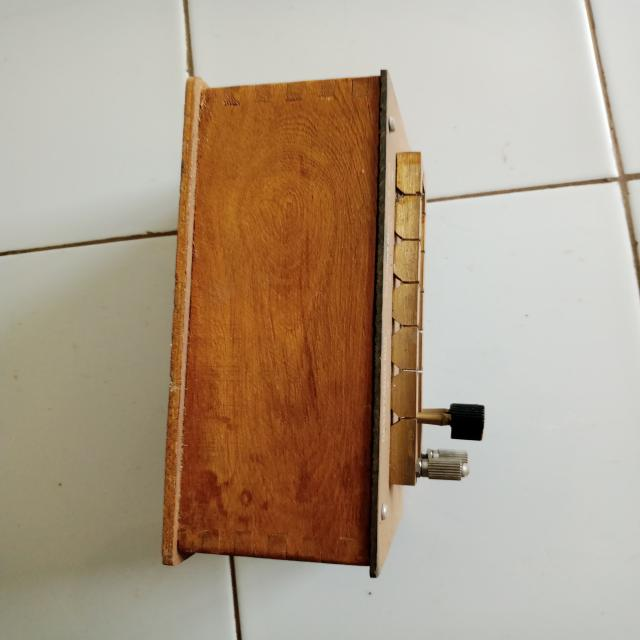Pinned Resistance Box: (125, 51, 504, 584)
